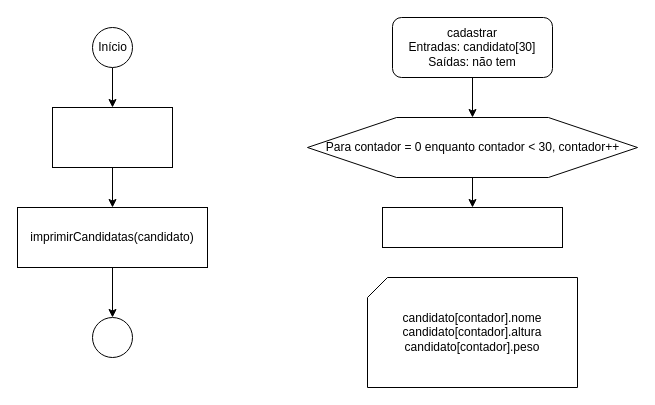
The diagram is 655 pixels wide and 405 high, and some of its shapes have lost their labels. Each missing label, with the centre of its shape:
cadastrar(candidato): pixel 112 137
candidato.inscricao = contador: pixel 472 227
Fim: pixel 112 337
